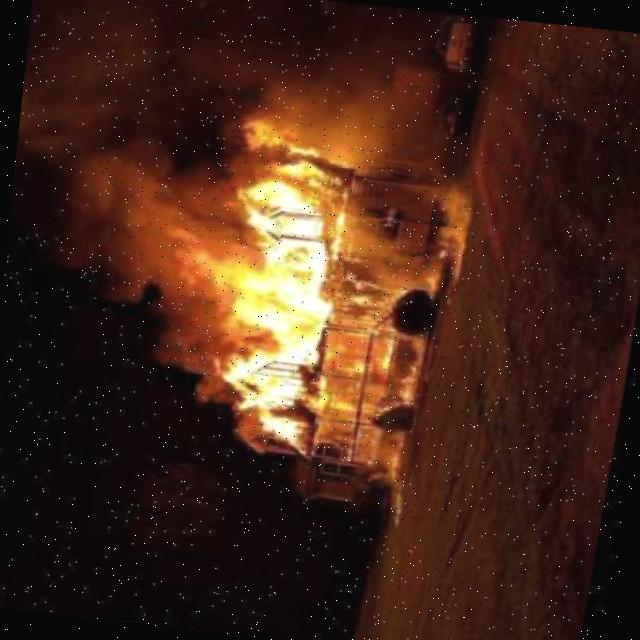fire: (188, 106, 369, 460), (356, 267, 447, 493), (311, 259, 389, 465), (149, 219, 224, 289)
